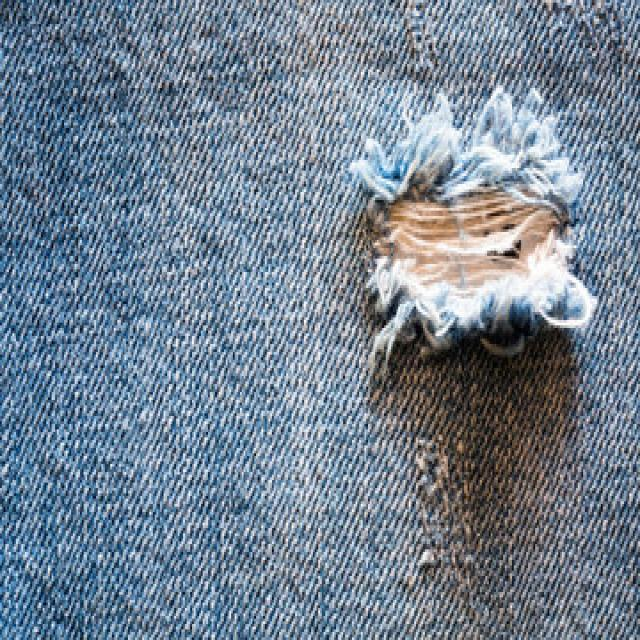Hole: (351, 90, 598, 368)
